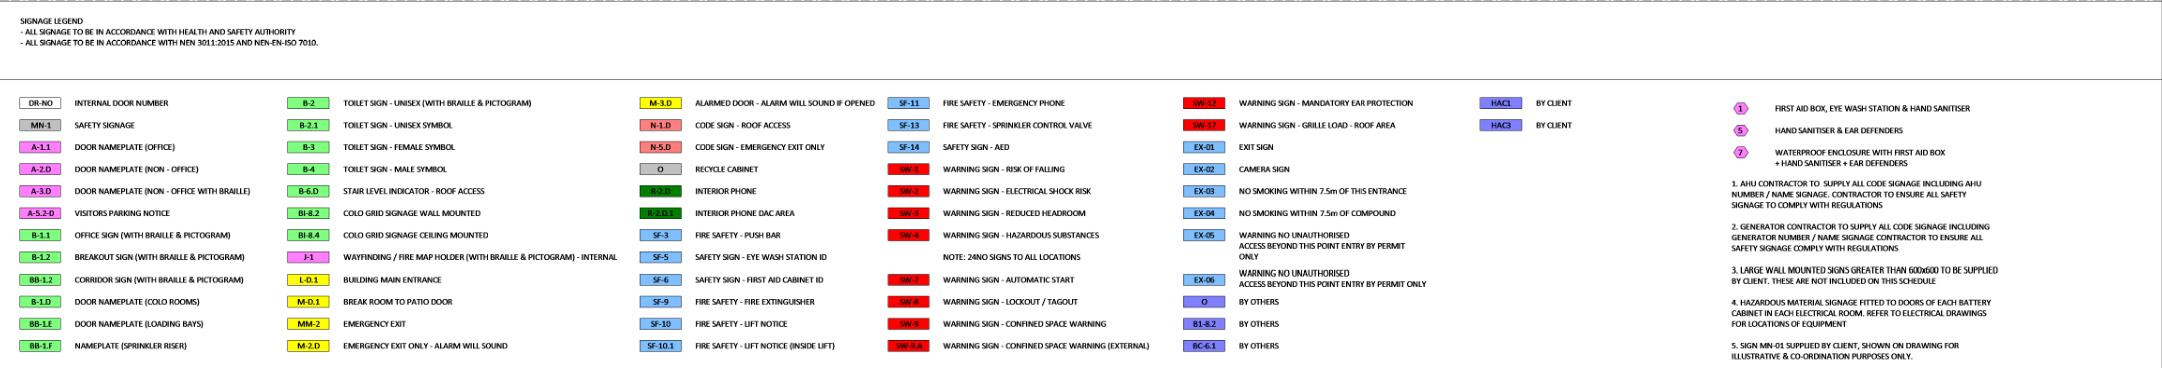hatch: (1473, 116, 1526, 138), (1474, 91, 1526, 113), (12, 136, 65, 157), (14, 335, 65, 356), (634, 92, 687, 112), (636, 182, 688, 201), (884, 269, 932, 289), (285, 136, 332, 157), (14, 181, 63, 200), (1179, 336, 1229, 356), (14, 114, 66, 132), (634, 160, 687, 178), (1179, 160, 1231, 178), (284, 292, 332, 311), (638, 314, 687, 334), (885, 182, 933, 201), (636, 338, 687, 356), (283, 182, 332, 200), (283, 204, 332, 222), (1179, 94, 1229, 112), (1180, 204, 1230, 222), (1176, 270, 1230, 287), (1180, 226, 1226, 245), (283, 338, 335, 354), (15, 248, 63, 266), (285, 114, 334, 132), (285, 316, 334, 334), (638, 226, 687, 244), (1180, 138, 1229, 156), (1180, 182, 1229, 200), (1180, 292, 1229, 310), (284, 249, 335, 266), (636, 138, 687, 154), (881, 139, 932, 156), (882, 160, 933, 176), (17, 292, 63, 310), (285, 226, 332, 244), (284, 272, 331, 289), (636, 294, 685, 310), (884, 117, 933, 134), (1179, 117, 1229, 134), (17, 160, 62, 178), (18, 203, 63, 221), (18, 270, 63, 288), (281, 95, 335, 110), (885, 338, 931, 356), (17, 226, 65, 243), (284, 161, 332, 178), (638, 249, 687, 266), (884, 294, 932, 310), (14, 95, 66, 110), (636, 117, 683, 134), (885, 205, 932, 222), (887, 227, 933, 244), (636, 273, 687, 288), (882, 316, 932, 331), (1180, 316, 1226, 332), (884, 95, 932, 110), (638, 205, 685, 221), (17, 316, 61, 331), (1726, 119, 1754, 138), (1726, 143, 1755, 161), (1728, 98, 1755, 116)
label: (1233, 227, 1416, 262), (1234, 266, 1434, 294), (1768, 145, 1955, 174), (339, 248, 618, 266), (938, 338, 1157, 354), (1765, 99, 1976, 116), (68, 181, 261, 198), (1233, 94, 1422, 112), (1234, 182, 1415, 200), (936, 314, 1114, 332), (69, 270, 254, 287), (1233, 116, 1401, 134), (938, 182, 1102, 200), (69, 227, 245, 244), (689, 95, 880, 110), (336, 225, 495, 243), (338, 204, 491, 222), (940, 226, 1103, 243), (1769, 120, 1914, 138), (1233, 204, 1400, 219), (338, 96, 536, 109), (341, 340, 517, 354), (339, 157, 455, 178), (938, 117, 1095, 132), (936, 204, 1093, 219), (939, 160, 1070, 178), (339, 114, 459, 134), (685, 139, 837, 154), (69, 316, 207, 332), (339, 183, 489, 198), (72, 336, 199, 354), (68, 251, 247, 263), (694, 338, 840, 353), (938, 95, 1071, 112), (689, 273, 834, 288), (940, 272, 1082, 287), (68, 160, 208, 175), (689, 248, 830, 263), (936, 295, 1088, 309), (68, 294, 208, 307), (336, 139, 463, 154), (70, 92, 174, 110), (68, 139, 179, 156), (689, 204, 801, 221), (336, 294, 458, 309), (66, 204, 176, 221), (688, 117, 798, 134), (692, 295, 822, 309), (691, 316, 794, 332), (338, 272, 447, 287), (689, 227, 785, 243), (938, 136, 1016, 154), (338, 316, 416, 332), (691, 161, 768, 176), (1237, 160, 1295, 178), (72, 119, 139, 134), (691, 185, 767, 197), (1233, 138, 1285, 156), (1532, 117, 1577, 136), (1235, 316, 1285, 332), (1528, 95, 1577, 112), (1233, 296, 1288, 310), (1233, 339, 1288, 353)
